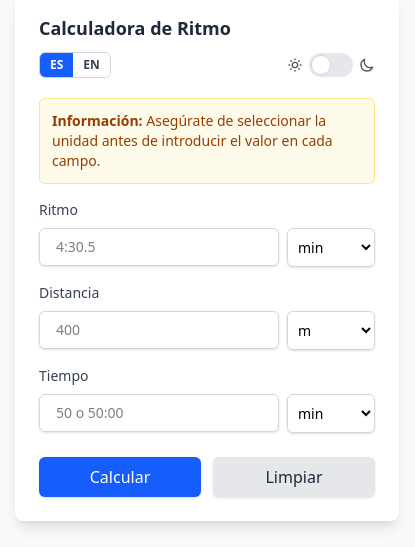
Test: Calculator.vue › switches to English and keeps yards and miles
Click the button "EN" at (92, 64), box [73,52,110,76]
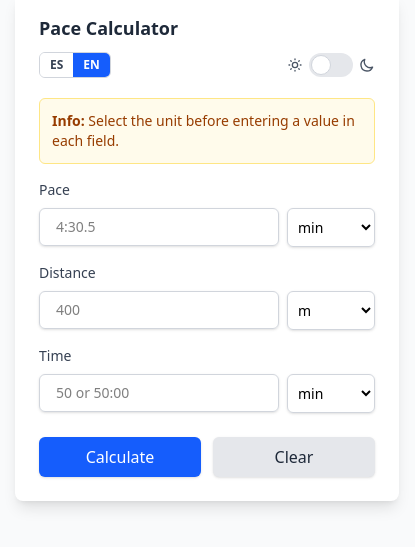
Expected: the heading "Pace Calculator" is shown, [39,16,178,40]
